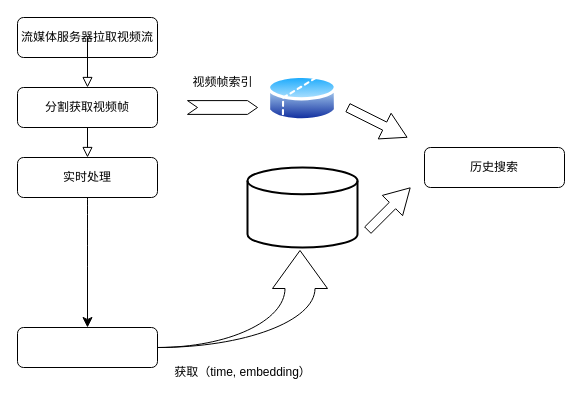
Image size: 582x405. Some labels were removed from this diagram. The shapes that lost their labels are listed below. From the top down, each one's centre as x and y in pixels, then its label:
(302,207): Faiss向量数据库
(87,347): 时空特征数据
